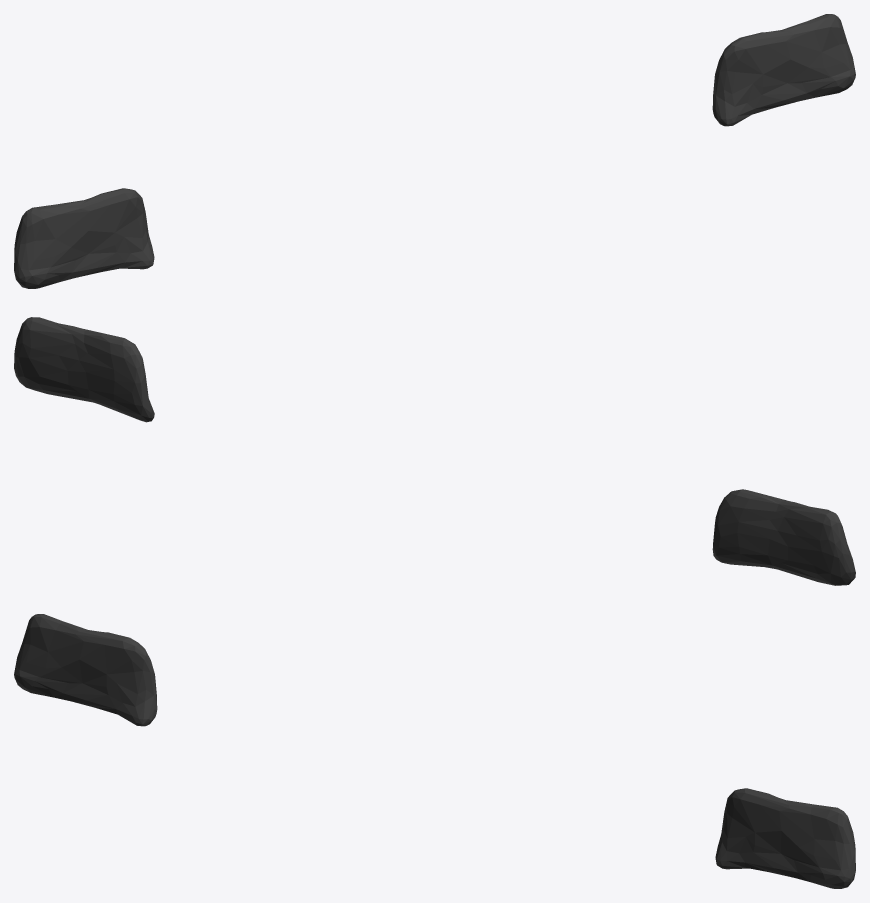
The model's file is lig_intersesamoidean_FL.glb.
The picture shows the model from 3 angles, top to bottom: view 1: azimuth 30°, elevation 25°; view 2: azimuth 150°, elevation 25°; view 3: azimuth 330°, elevation 25°; orthographic projection.
Parts seen in each view (by area): view 1: lig_intersesamoidean_FL; view 2: lig_intersesamoidean_FL; view 3: lig_intersesamoidean_FL.
Boxes of the visible parts, x1,y1,x2,y2 form: lig_intersesamoidean_FL: (14,14,855,288); lig_intersesamoidean_FL: (14,317,855,585); lig_intersesamoidean_FL: (14,614,855,888).
Bounding box in the file's own units: 0.00389 × 0.00036 × 0.000131.
Materials: 1 (1 with a texture image).
